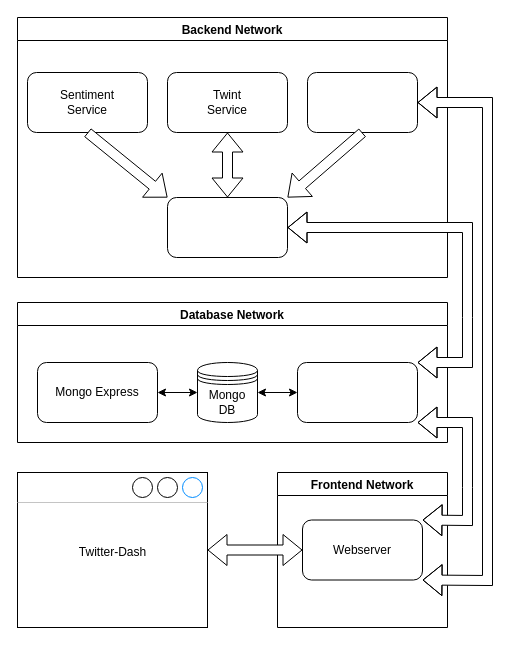
Some shapes in this 510 by 645 pixel diagram are drawn without their labels. The shapes that lost their labels are listed below. From the top down, each one's box as (x1, y1, x2, y2) in pixels, then its label:
(306, 72, 418, 132): Trend Service
(166, 196, 288, 258): Conductor
(296, 362, 418, 422): Database Service
(16, 472, 208, 628): Browser
